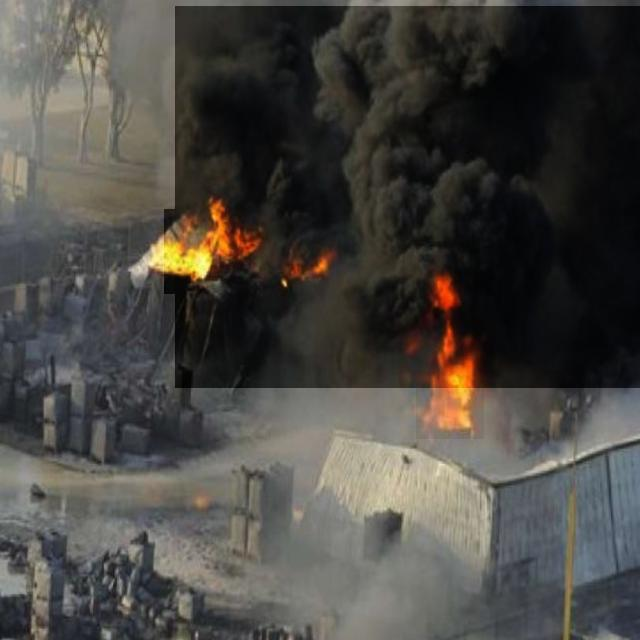Fire: (416, 274, 484, 439), (164, 209, 264, 294), (278, 252, 338, 292)
Smoke: (175, 6, 640, 388)
